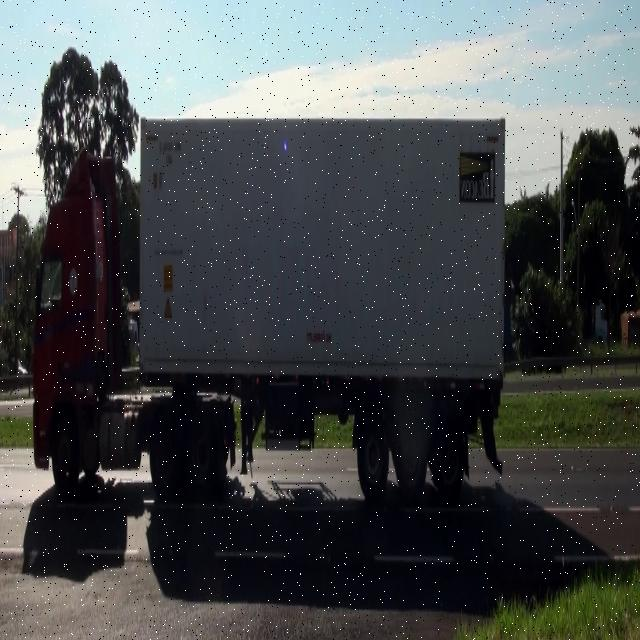-axle: (356, 410, 389, 503), (433, 400, 463, 502), (394, 404, 426, 498), (153, 408, 187, 492), (52, 410, 77, 497), (192, 412, 216, 494)
